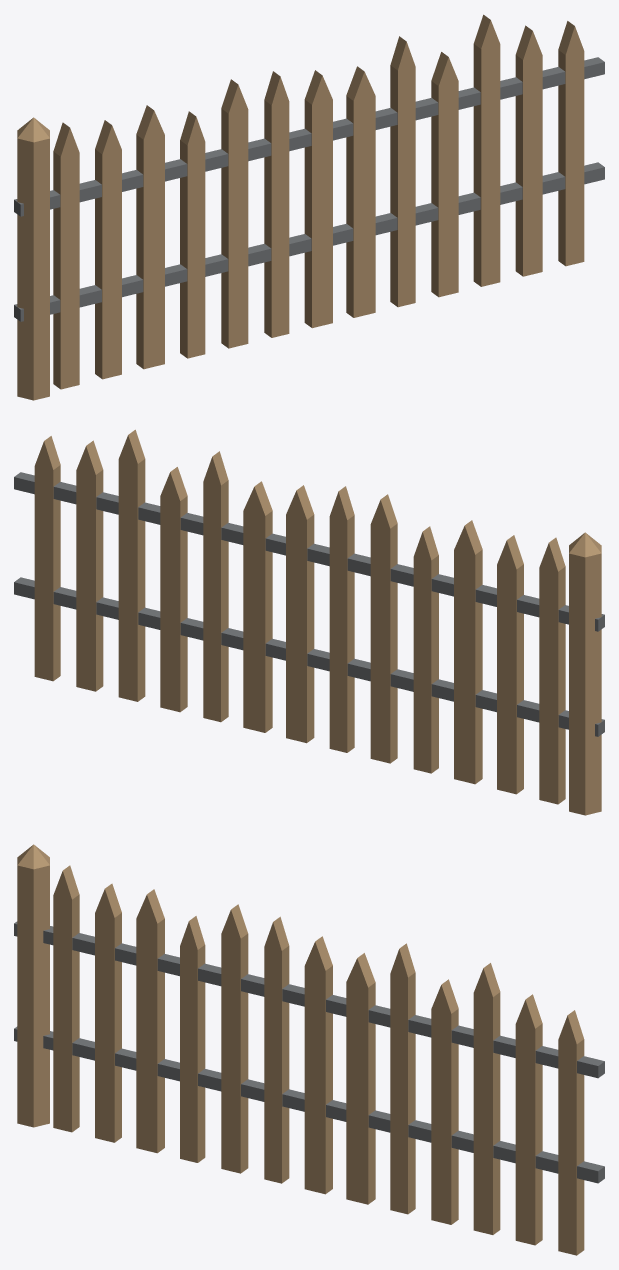
File: fence_segment_02.glb
3 renders of one model, top to bottom at view 1: azimuth 30°, elevation 25°; view 2: azimuth 150°, elevation 25°; view 3: azimuth 330°, elevation 25°, orthographic.
Visible parts, largest first — view 1: Fence_segment_02; view 2: Fence_segment_02; view 3: Fence_segment_02.
Part boxes in pixels (x1,y1,x2,y2): Fence_segment_02: [14, 14, 604, 400]; Fence_segment_02: [14, 429, 604, 815]; Fence_segment_02: [14, 844, 604, 1255].
Bounding box in the file's own units: 2.5 × 1.13 × 0.1212.
